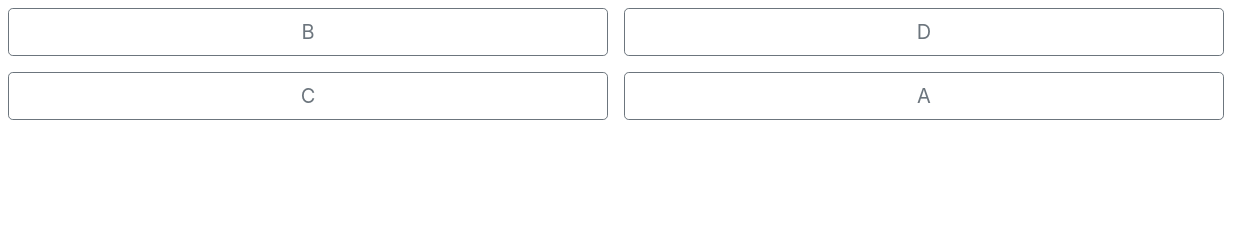
should show "Finish!" as button text when it's the last question of the quiz
What coordinates should you click on to do the following:
click the button "C"
I would click on:
 (308, 96)
Its box is [8, 72, 608, 120].
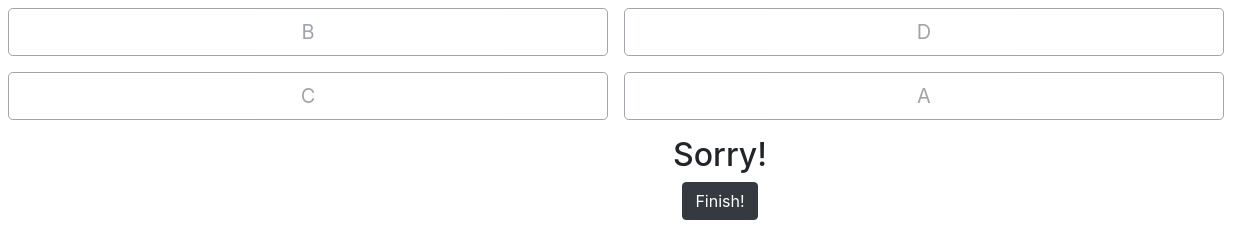
Result: the button with test id "next-btn" reads "Finish!" at [682, 182, 758, 220]
